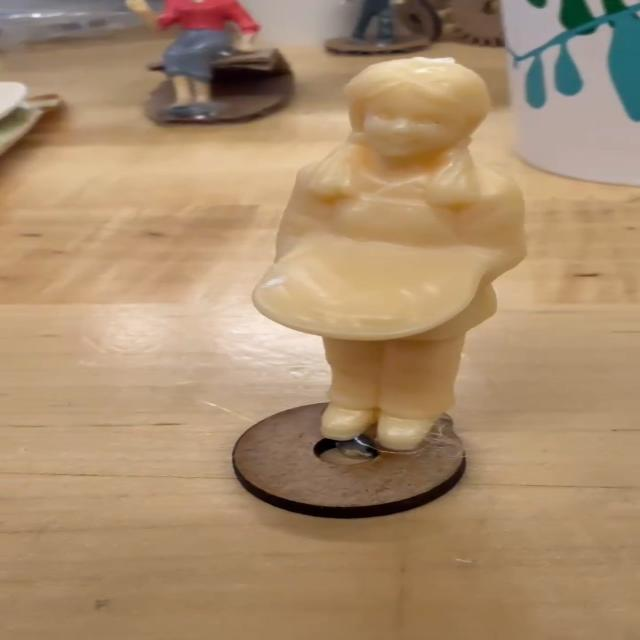Unauthorized: (192, 47, 639, 486)
